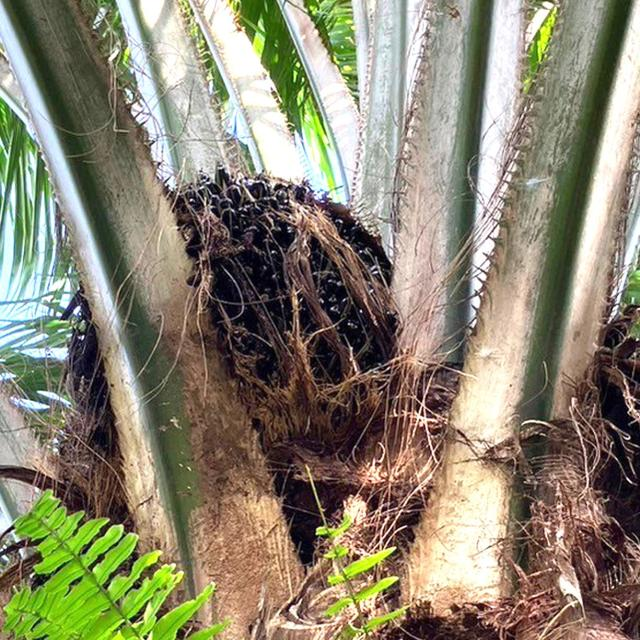unripe: (174, 168, 404, 432)
